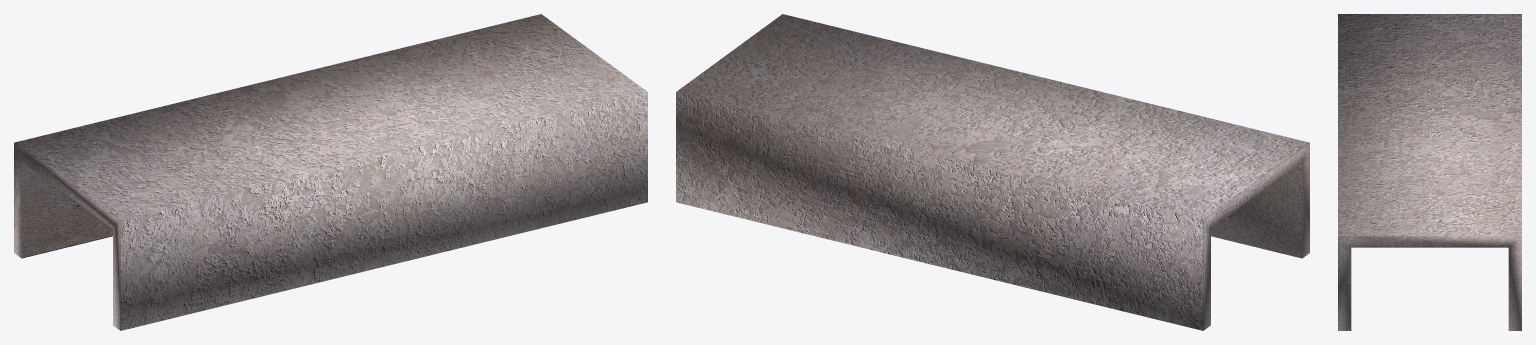
Rendered from 3_def.dae.
3 views of the same model, side by side, from view 1: azimuth 30°, elevation 25°; view 2: azimuth 150°, elevation 25°; view 3: azimuth 270°, elevation 25° (orthographic). The views are drawn at different scales.
Parts seen in each view (by area): view 1: lwh800x160x280; view 2: lwh800x160x280; view 3: lwh800x160x280.
Part boxes in pixels (x1,y1,x2,y2): lwh800x160x280: (14, 14, 647, 330); lwh800x160x280: (676, 14, 1309, 330); lwh800x160x280: (1338, 14, 1521, 330).
Bounding box in the file's own units: 4 × 1.4 × 0.8.
6 materials, 6 textured.
